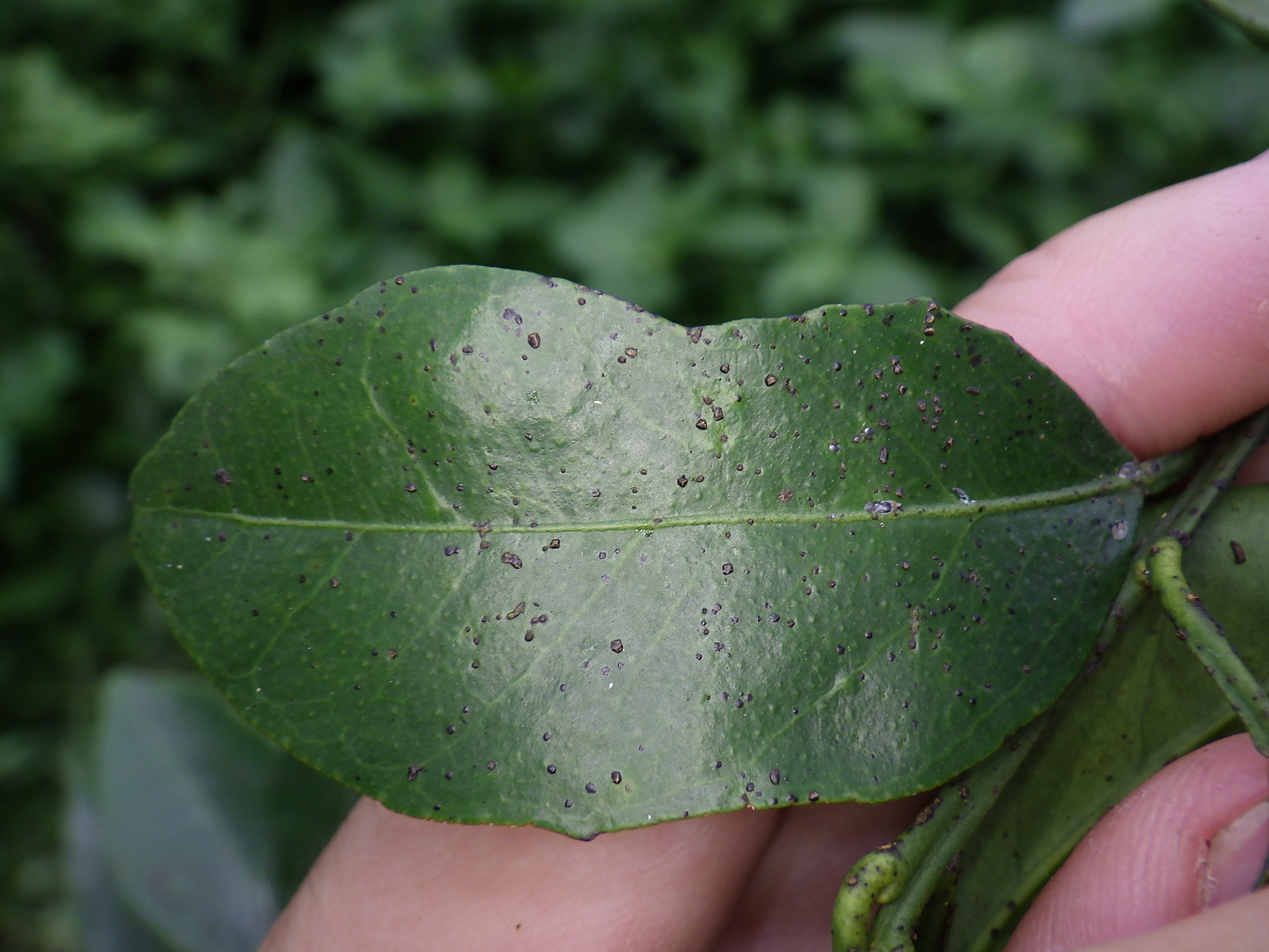Black_Spot: (132, 267, 1163, 837)
